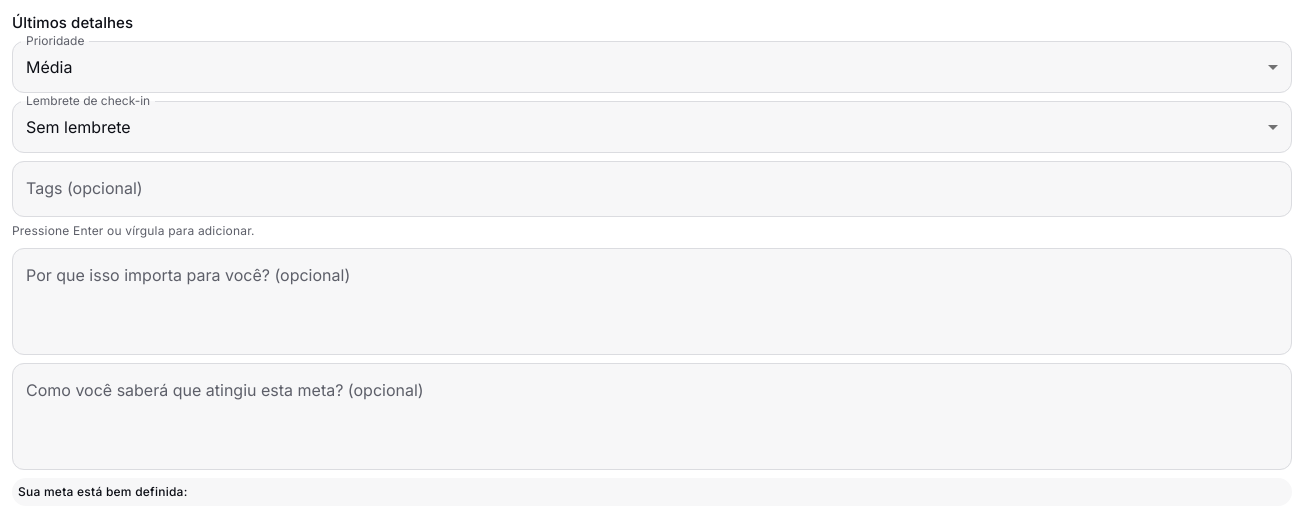
Test case: DetailsStep › adds a tag on Enter and removes it via the chip
This screenshot has width=1292, height=514.
Type "leitura" into the dropdown labelled "Tags (opcional)" at point(652, 189), box [21,170,1283,208]
Then press Enter
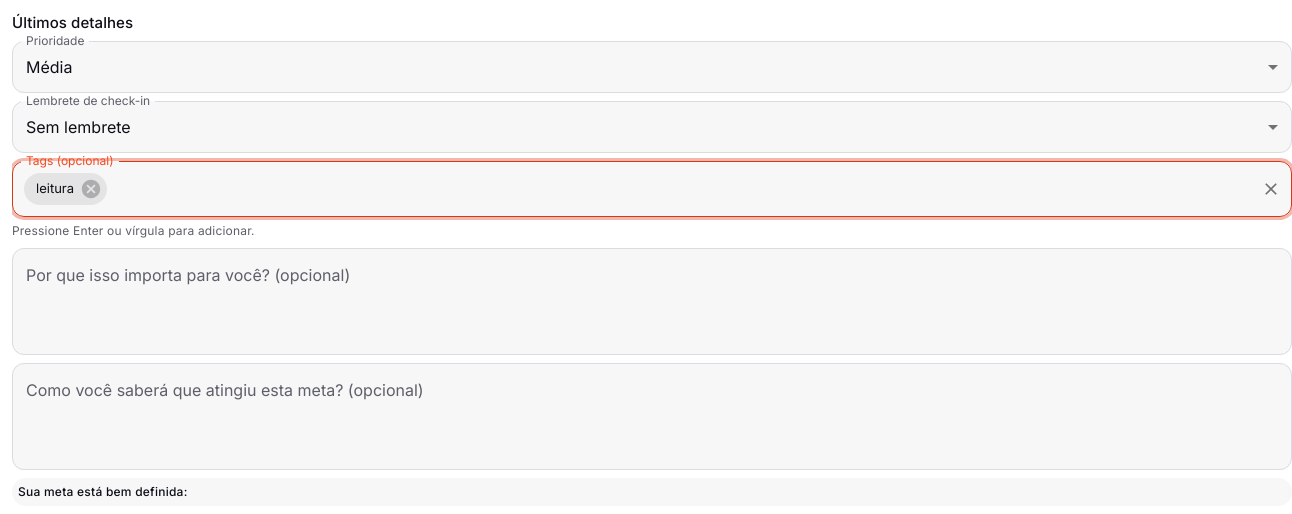
Expected: the dropdown labelled "Tags (opcional)" is empty, [110,170,1253,208]
Now the text "leitura" is shown, box [36,180,74,196]
Click the 3rd icon at point(91, 189), box [80,178,102,200]
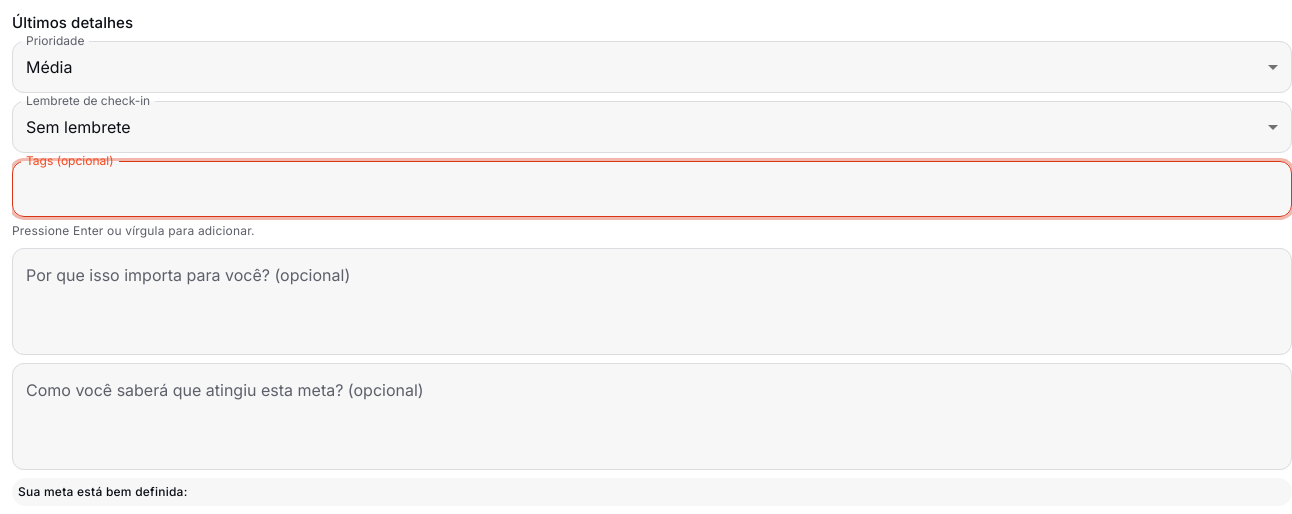
Now the button "leitura" is gone
